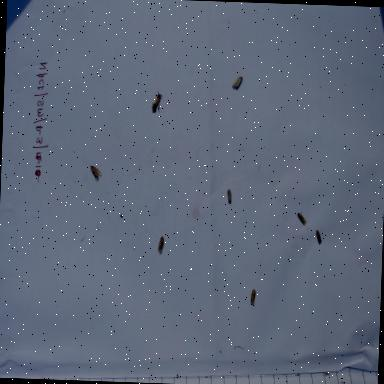pbw: (88, 163, 103, 183), (230, 74, 244, 90), (296, 211, 308, 227), (156, 235, 164, 256), (314, 228, 322, 246), (249, 288, 256, 308), (225, 188, 232, 206)
